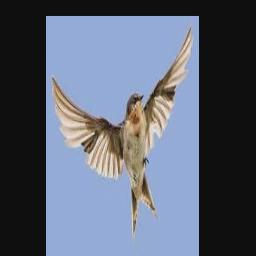Swallow: (51, 23, 193, 243)
